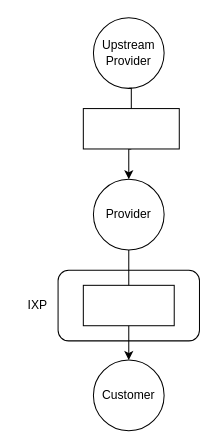
Some shapes in this 217 by 448 pixel diagram are drawn without their labels. Here are the shapes that lost their labels. From the top down, the box of each, then its label:
(82, 108, 179, 149): Upstream Monitor
(82, 284, 174, 326): Downstream Monitor
